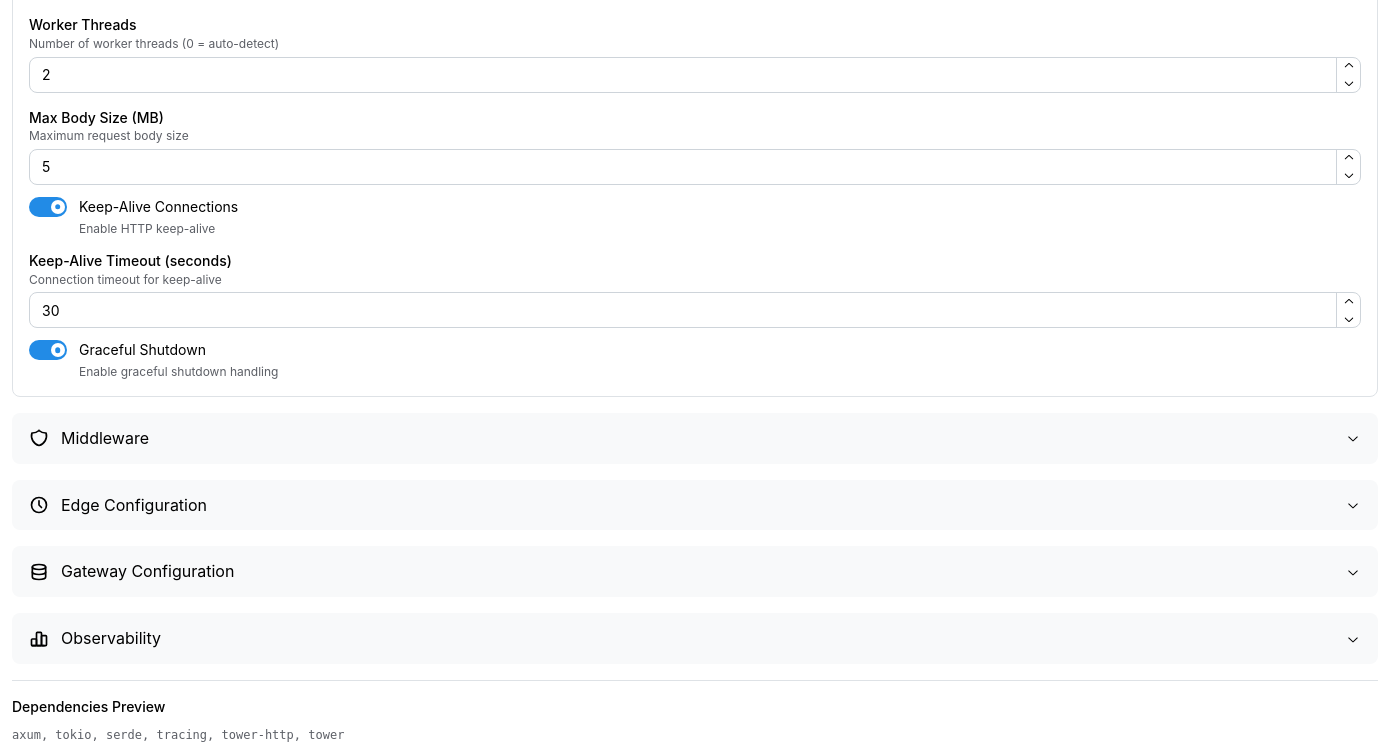
Test case: RustOptionsPanel › Edge Gateway Section › shows load balancing strategy when load balancing is enabled
The width and height of the screenshot is (1390, 742).
(page scrolled)
Step 1. Click the button "Gateway Configuration" → point(148, 571), box [13, 547, 1377, 596]
(page scrolled)
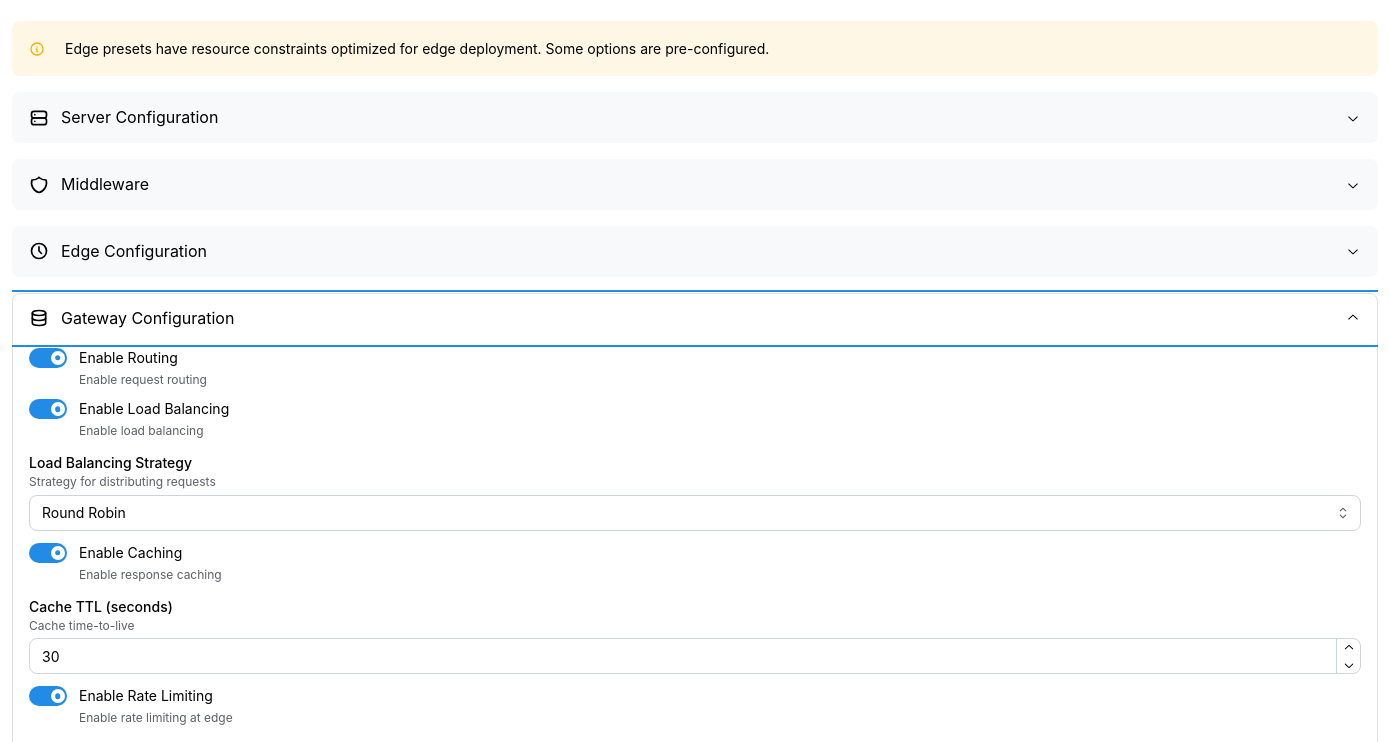
Result: the field with test id "gateway-load-balancing-strategy-select" is shown at [29, 495, 1361, 531]
